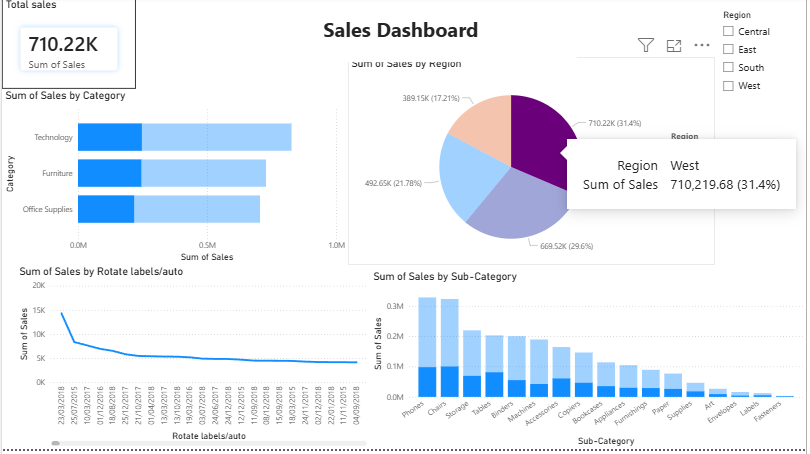

This screenshot's page, from the dashboard's own definition file:
{"tool":"powerbi","page":{"name":"Page 1","canvas":[1280,720],"ordinal":0},"visuals":[{"type":"cardVisual","title":"Total sales","fields":{"Data":["Sum(train.Sales)"]},"box":[0,0,213.3,146.5],"z":0},{"type":"clusteredBarChart","fields":{"Category":["train.Category"],"Y":["Sum(train.Sales)"]},"box":[0,146.5,550.8,280.2],"z":1000},{"type":"pieChart","fields":{"Category":["train.Region"],"Y":["Sum(train.Sales)"]},"box":[550.8,95.5,584.3,331.1],"z":2000},{"type":"lineChart","fields":{"Category":["train.Order Date"],"Y":["Sum(train.Sales)"]},"box":[22.3,426.7,563.6,292.9],"z":3000},{"type":"clusteredColumnChart","fields":{"Category":["train.Sub-Category"],"Y":["Sum(train.Sales)"]},"box":[585.9,434.6,694.1,285],"z":3001},{"type":"slicer","fields":{"Values":["train.Region"]},"box":[1135.1,15.9,144.9,175.1],"z":3002},{"type":"textbox","box":[506.3,23.9,409.2,79.6],"z":3003}]}

Visuals, with their boxes in screenshot pixels (x1, y1, x2, y2), scaled from the page's 1280x720 canvas onto the 810x454 screenshot:
"Total sales" cardVisual: rect(0, 0, 135, 92)
clusteredBarChart - train.Category x Sum(train.Sales): rect(0, 92, 349, 269)
pieChart - train.Region x Sum(train.Sales): rect(349, 60, 718, 269)
lineChart - train.Order Date x Sum(train.Sales): rect(14, 269, 371, 453)
clusteredColumnChart - train.Sub-Category x Sum(train.Sales): rect(371, 274, 809, 453)
slicer - train.Region: rect(718, 10, 809, 120)
textbox: rect(320, 15, 579, 65)
